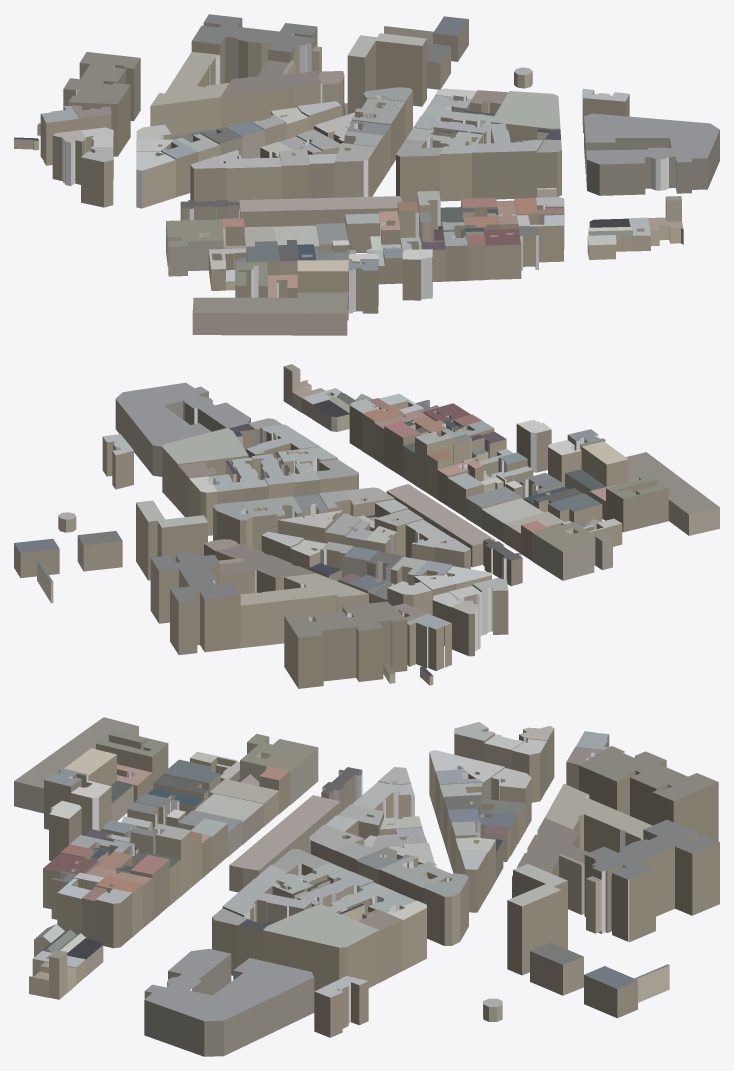
3 renders of one model, top to bottom at view 1: azimuth 30°, elevation 25°; view 2: azimuth 150°, elevation 25°; view 3: azimuth 270°, elevation 25°, orthographic. The views are drawn at different scales.
Parts seen in each view (by area): view 1: tuile; view 2: tuile; view 3: tuile.
Part boxes in pixels (left/top/right/bottom): tuile: left=14, top=14, right=719, bottom=335; tuile: left=14, top=364, right=719, bottom=688; tuile: left=14, top=717, right=719, bottom=1056.
Bounding box in the file's own units: 309 × 34.65 × 290.
